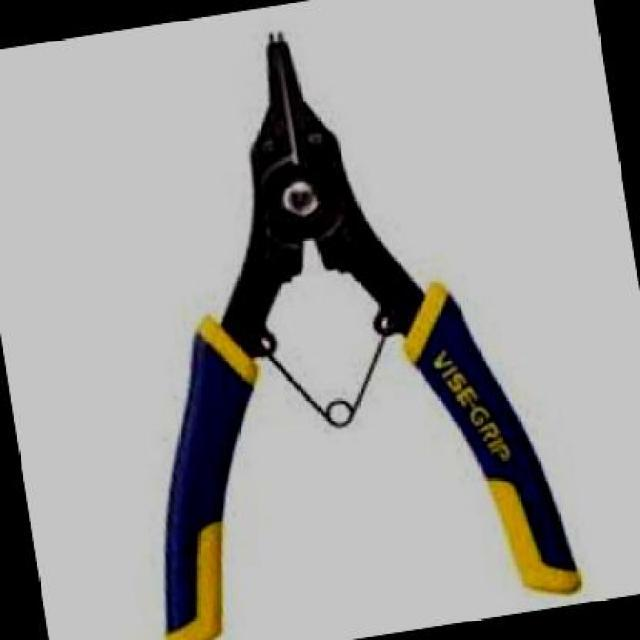pliers: (26, 0, 620, 638)
